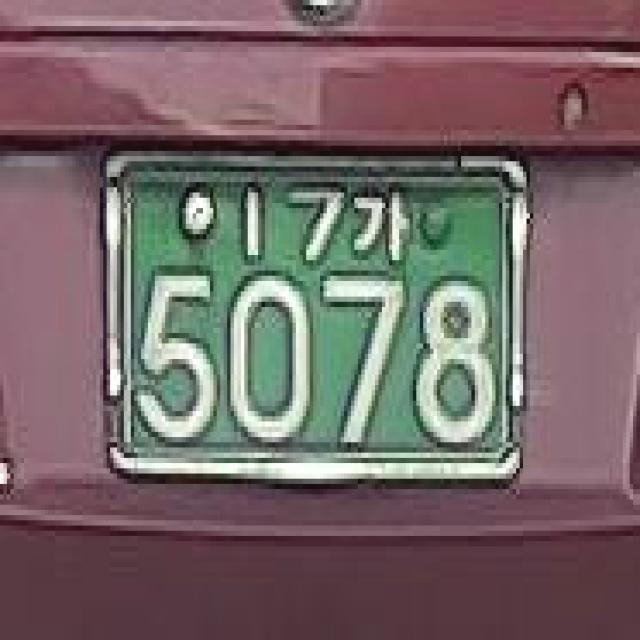illegal_plate: (85, 130, 542, 505)
